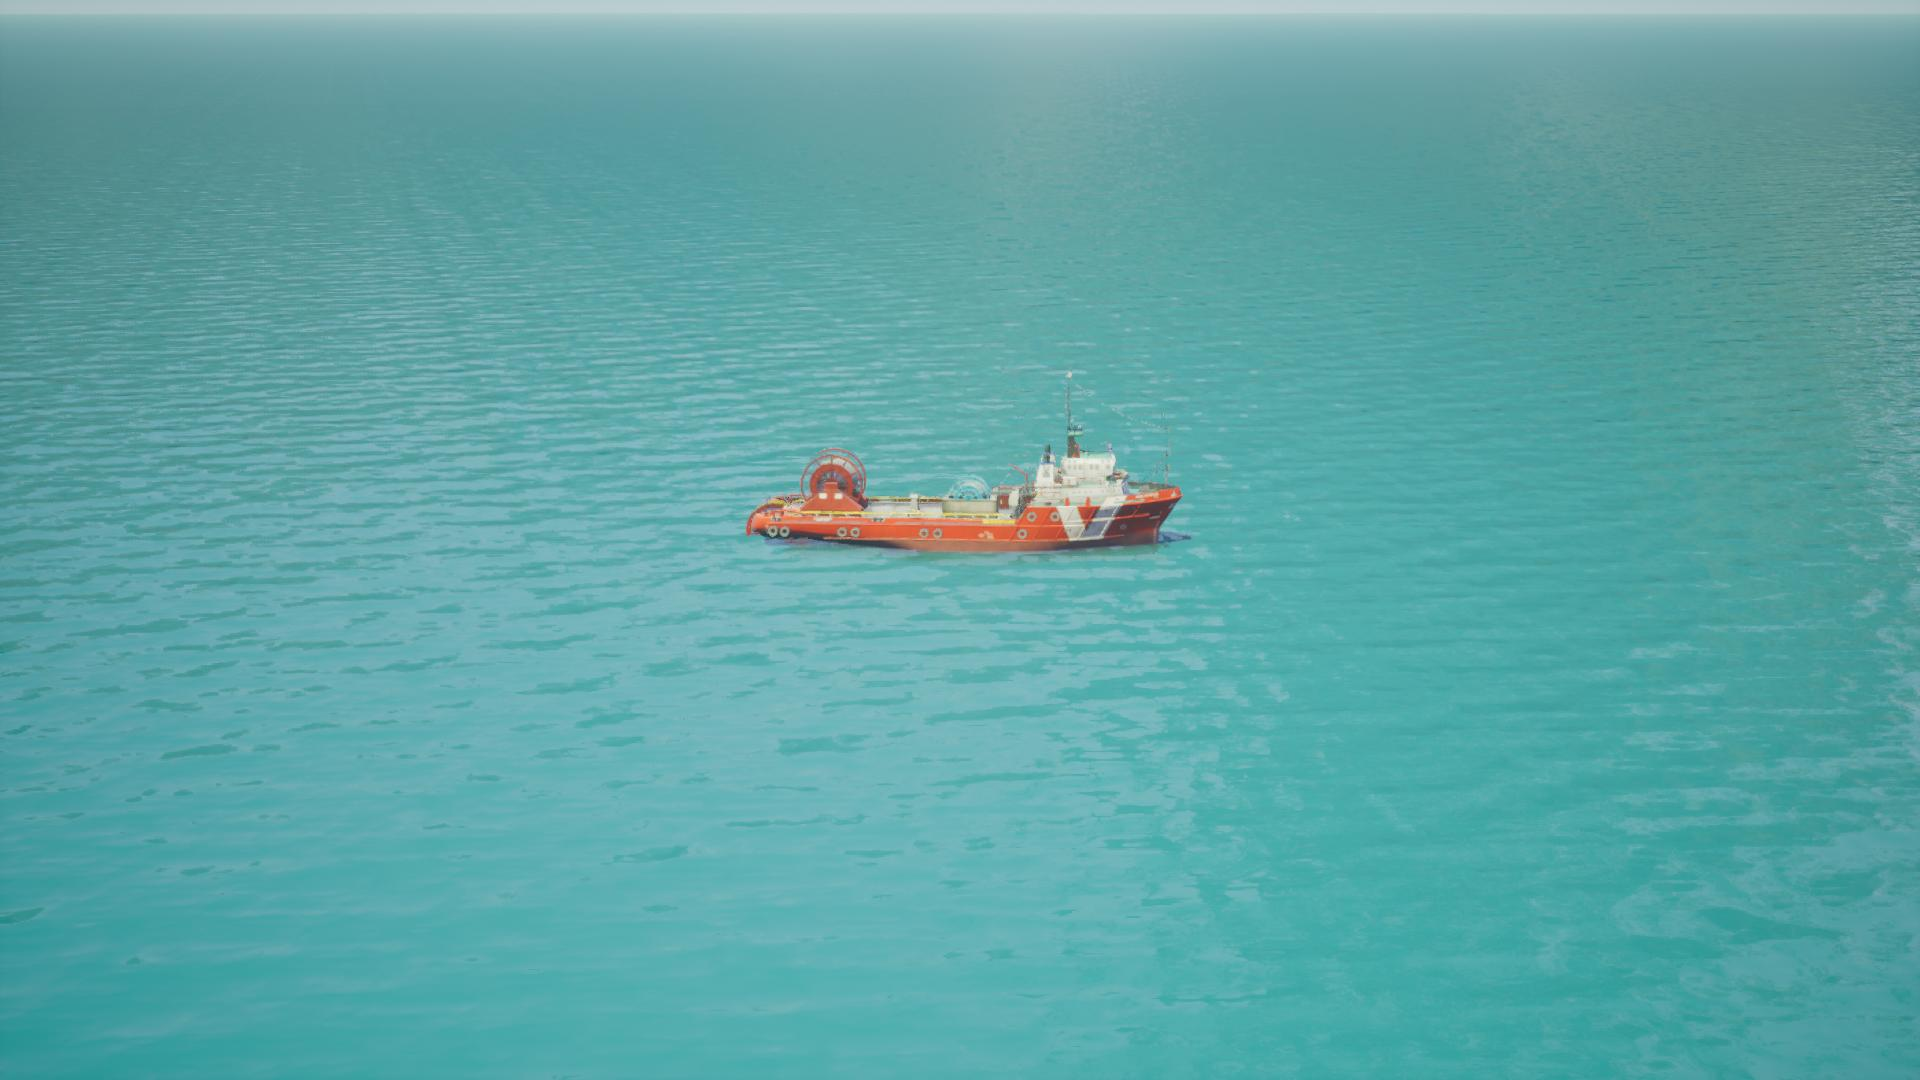Tug Boat: (742, 397, 1185, 558)
